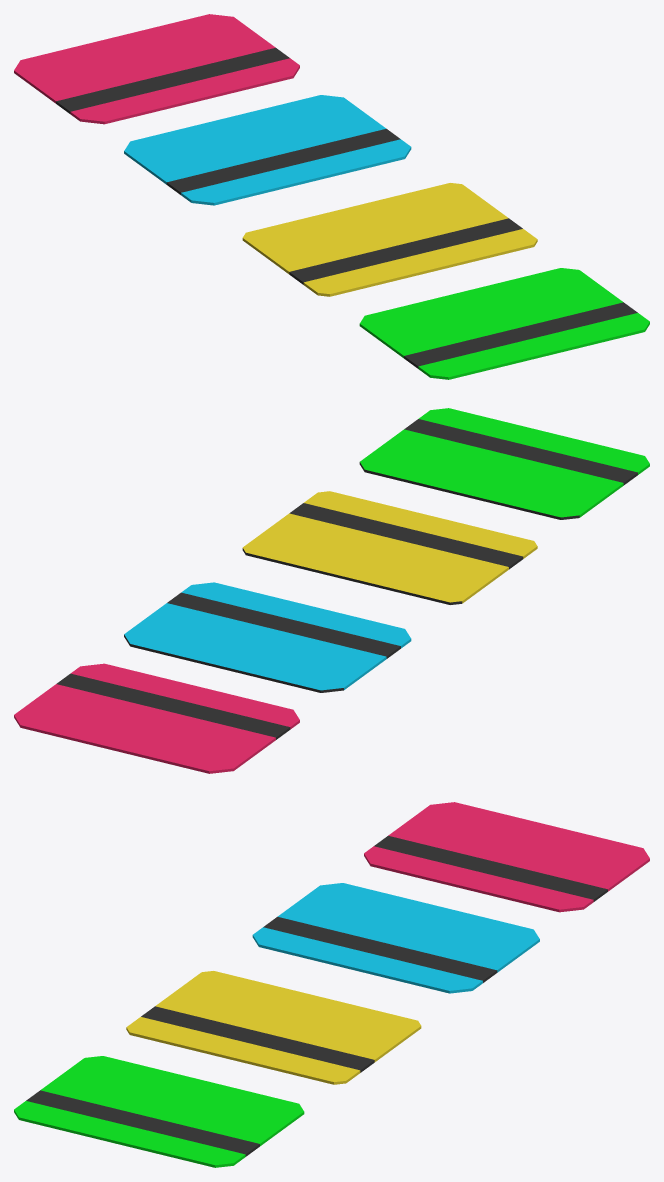
Rendered from keycards.fbx.
3 renders of one model, top to bottom at view 1: azimuth 30°, elevation 25°; view 2: azimuth 150°, elevation 25°; view 3: azimuth 330°, elevation 25°, orthographic.
Visible parts, largest first — view 1: keycard_blue.002, keycard_blue.003, keycard_blue.001, keycard_blue; view 2: keycard_blue.002, keycard_blue.003, keycard_blue.001, keycard_blue; view 3: keycard_blue.002, keycard_blue.003, keycard_blue.001, keycard_blue.
Boxes of the visible parts, <box> form: keycard_blue.002: <box>242,183,537,296</box>; keycard_blue.003: <box>359,268,649,379</box>; keycard_blue.001: <box>124,95,411,205</box>; keycard_blue: <box>14,14,299,124</box>; keycard_blue.002: <box>242,491,537,604</box>; keycard_blue.003: <box>359,408,649,519</box>; keycard_blue.001: <box>124,582,411,692</box>; keycard_blue: <box>14,663,299,773</box>; keycard_blue.002: <box>126,971,421,1084</box>; keycard_blue.003: <box>14,1056,304,1167</box>; keycard_blue.001: <box>252,883,539,993</box>; keycard_blue: <box>364,802,649,912</box>.
Size of the model in its own units: 0.166 by 0.00191 by 0.5651.
